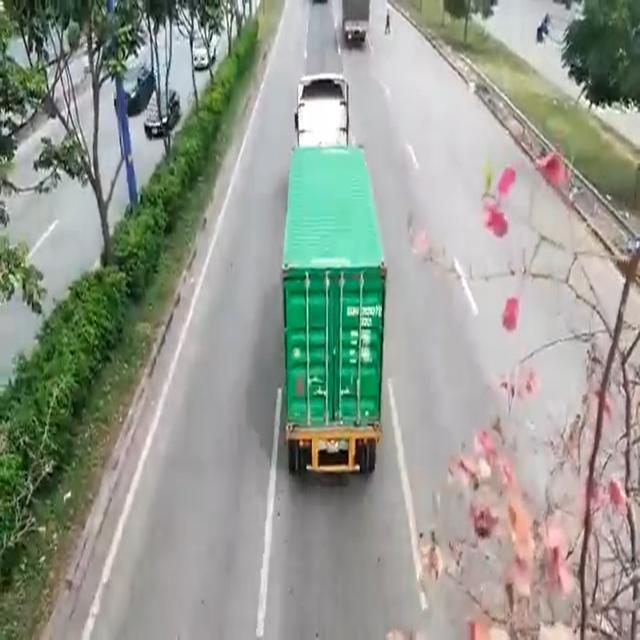truck: (289, 82, 379, 474)
